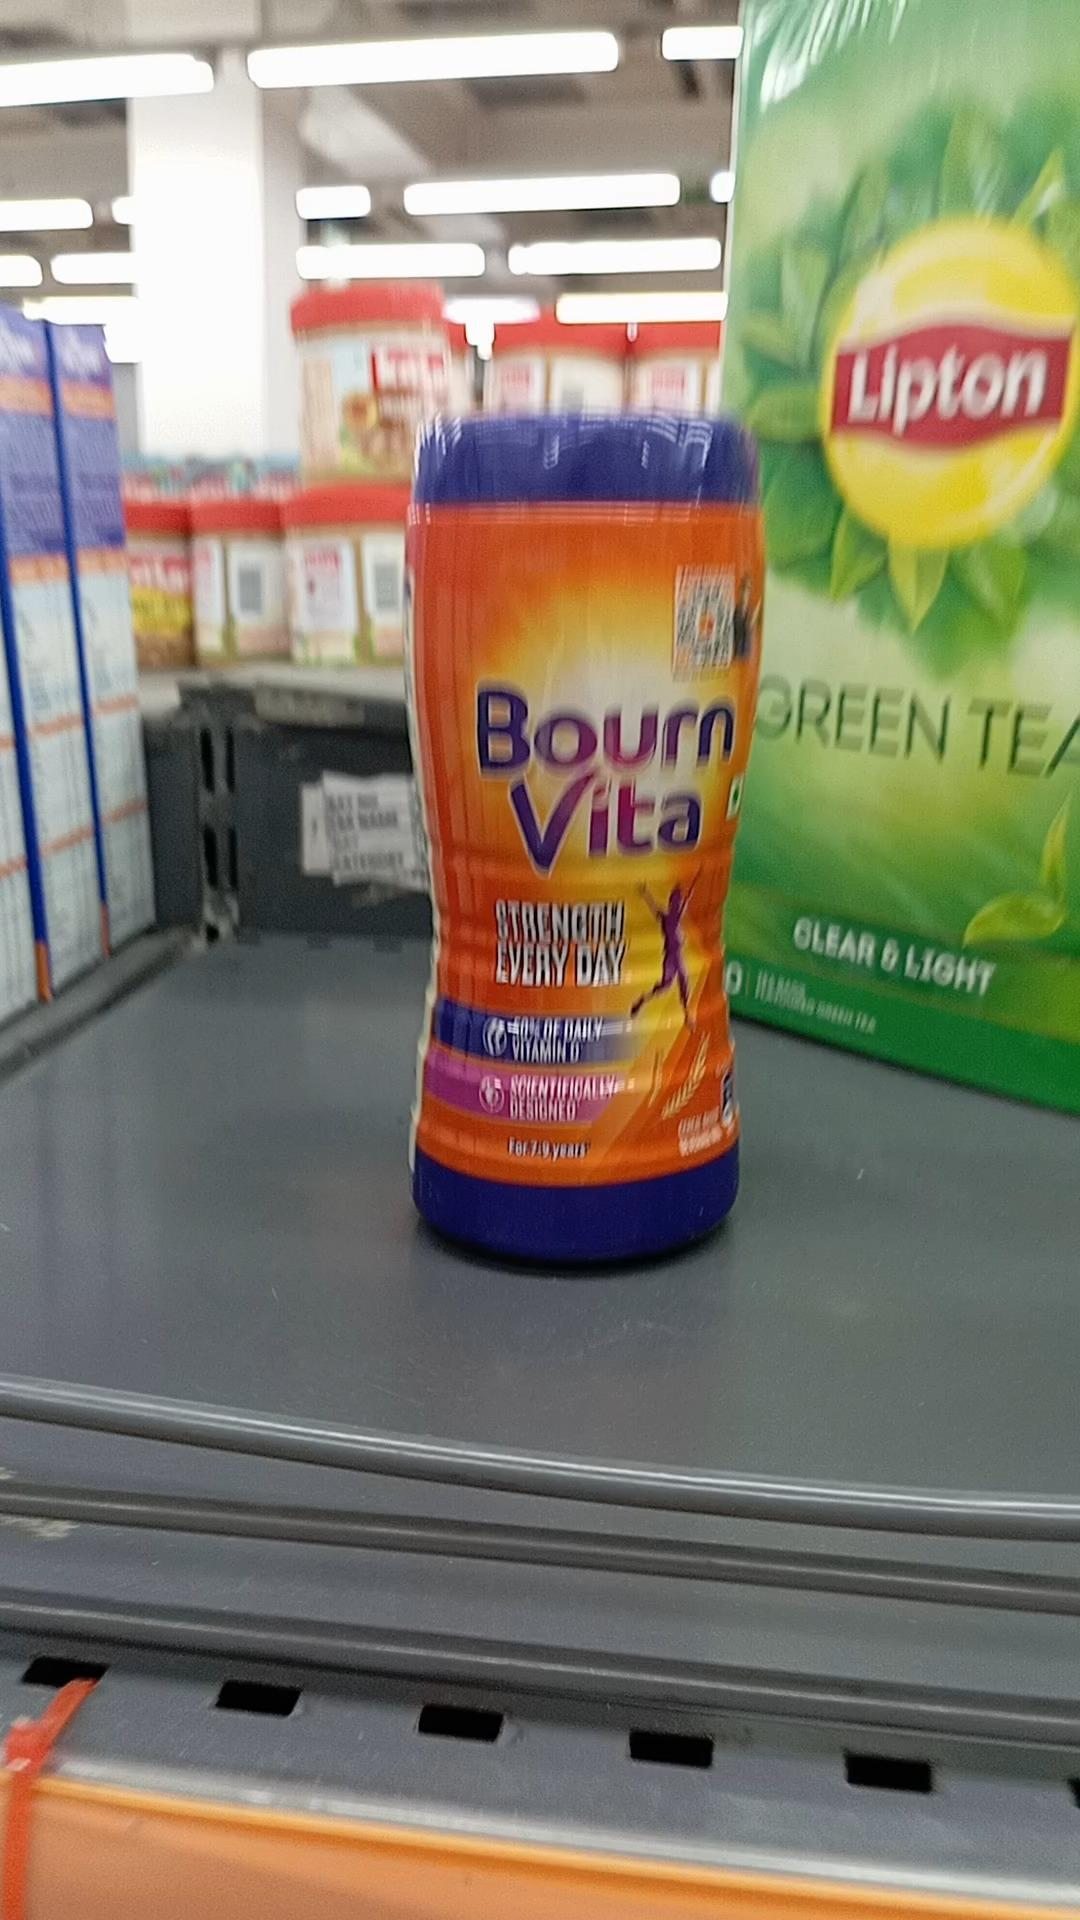BOURN_VITA_200_G_JAR: (396, 375, 756, 1280)
